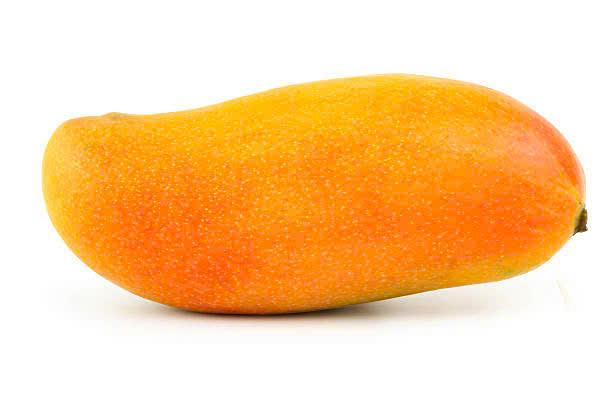mango: (56, 90, 580, 310)
